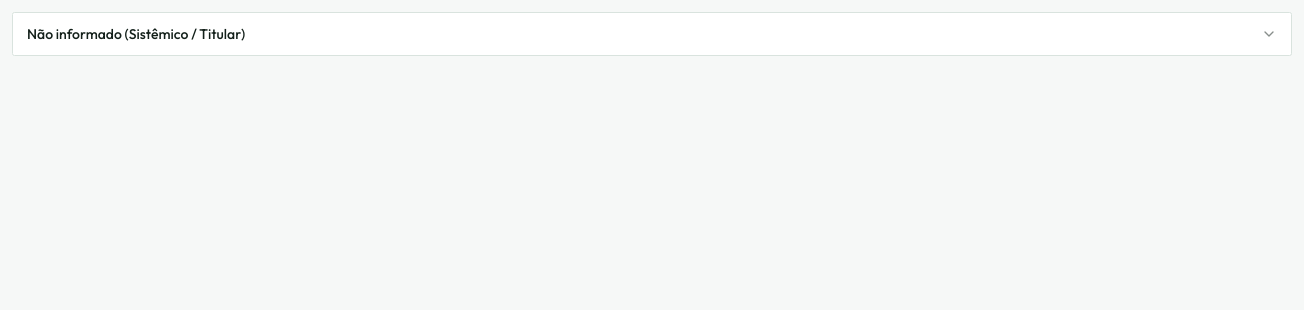
Test case: PessoaSelect › pesquisa por nome ignora acentos e case
Click the button with test id "pessoa-select-trigger" at (136, 34), box [12,12,1292,56]
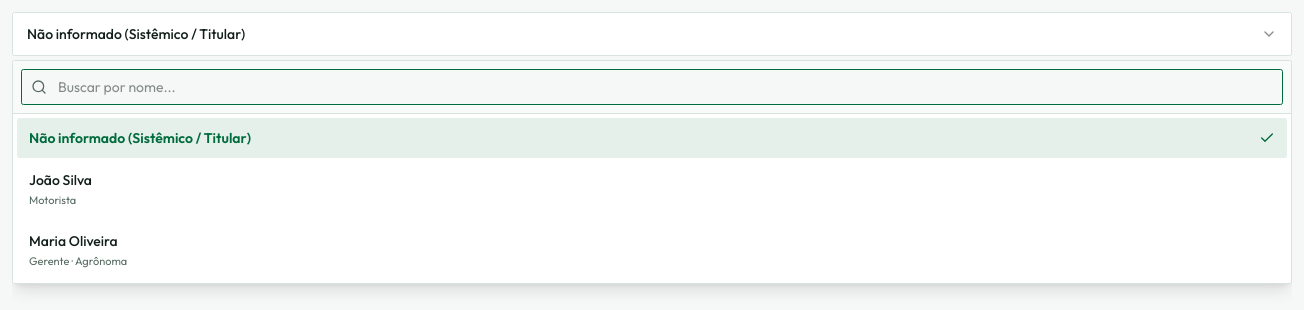
# Pesquisa "joao" sem acento
Type "joao" into the field with placeholder "Buscar por nome..." at (652, 87), box [21,69,1283,105]
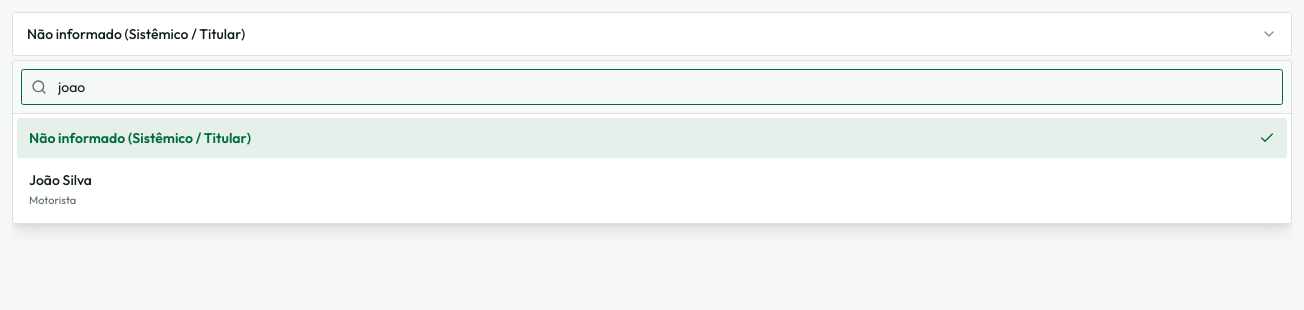
Now the text "João Silva" is shown, box [29,170,92,190]
Now the button "Maria Oliveira" is gone
